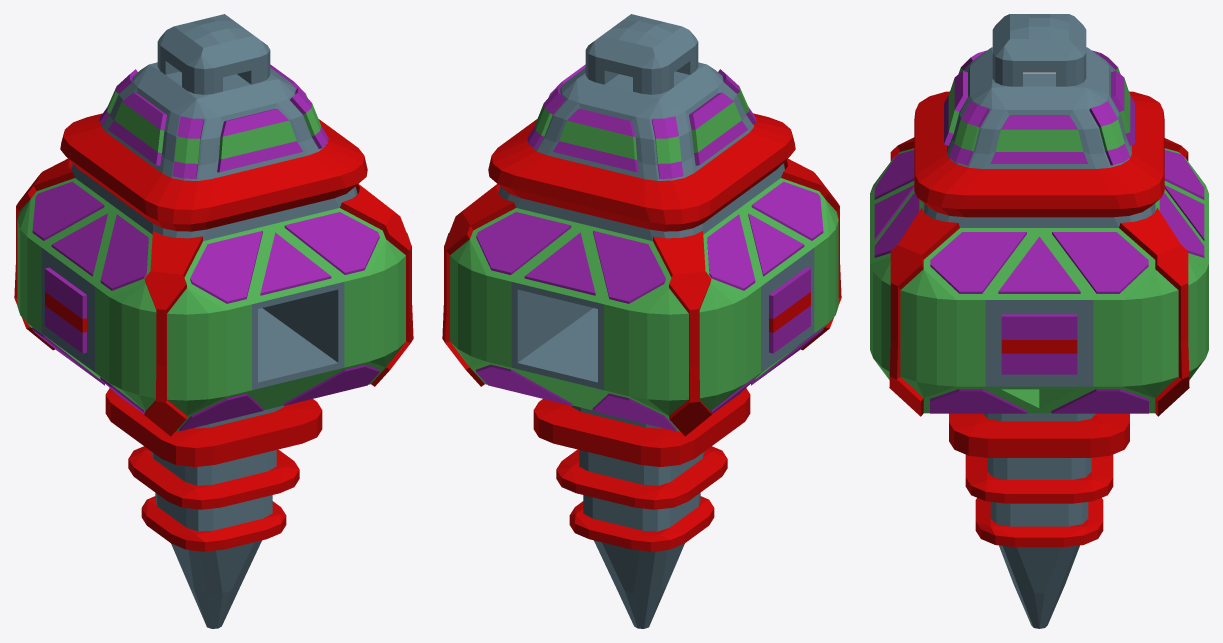
File: boss1.fbx
The picture shows the model from 3 angles, left to right: view 1: azimuth 30°, elevation 25°; view 2: azimuth 150°, elevation 25°; view 3: azimuth 270°, elevation 25°; orthographic projection.
Visible parts, largest first — view 1: Cube; view 2: Cube; view 3: Cube.
Boxes of the visible parts, x1,y1,x2,y2 form: Cube: (14,14,413,628); Cube: (442,14,841,628); Cube: (870,14,1208,628).
Size of the model in its own units: 6617 by 12603 by 6417.
Materials: 2 (1 with a texture image).
